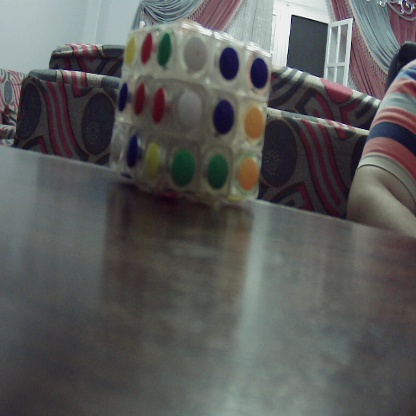Rubix Cube: (109, 19, 268, 211)
